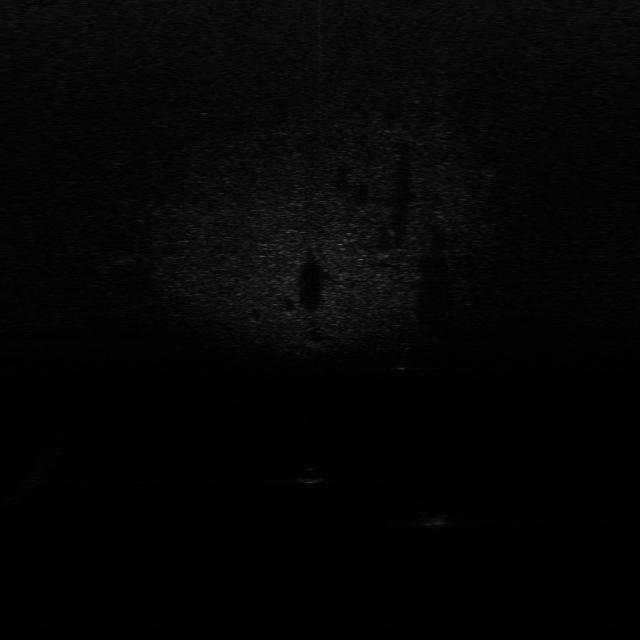ball: (294, 465, 328, 487)
square cage: (414, 505, 466, 534)
tyre: (390, 342, 420, 374)
